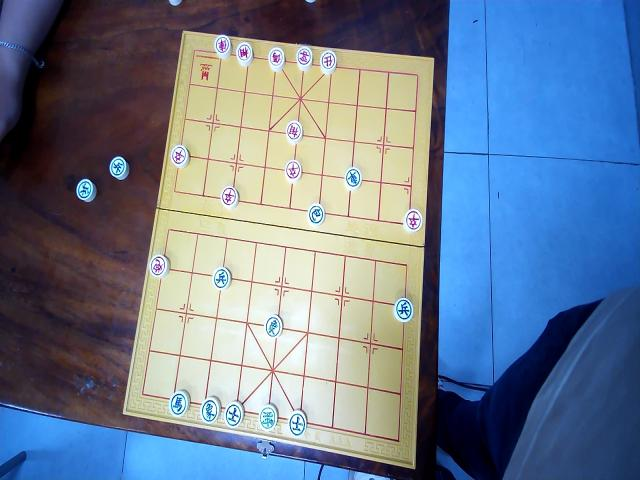piece: (148, 253, 170, 280), (169, 389, 190, 417), (200, 396, 220, 425), (224, 399, 244, 428), (258, 404, 278, 432), (288, 410, 307, 438), (108, 155, 128, 181), (403, 208, 423, 234), (394, 296, 414, 322), (76, 178, 96, 203), (169, 144, 189, 169), (220, 185, 239, 211), (235, 40, 253, 66), (295, 46, 313, 72), (319, 50, 337, 76), (284, 158, 302, 183), (214, 33, 232, 58), (344, 166, 362, 191), (212, 266, 230, 290), (268, 47, 285, 72), (307, 203, 325, 226), (264, 315, 282, 338), (286, 119, 302, 144)
